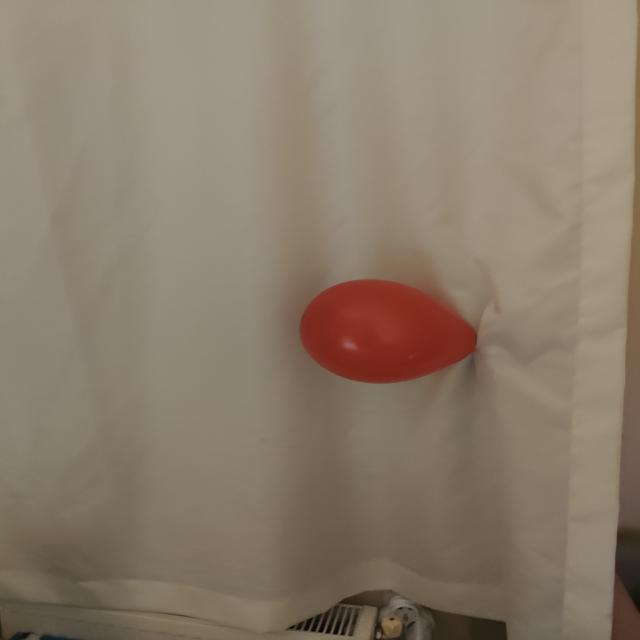balloon: (300, 279, 476, 384)
